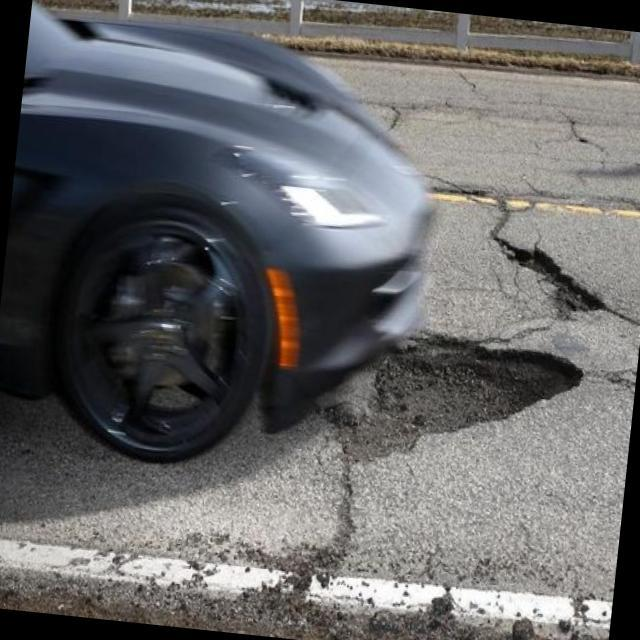Pothole: (380, 321, 590, 447), (498, 232, 606, 321)
